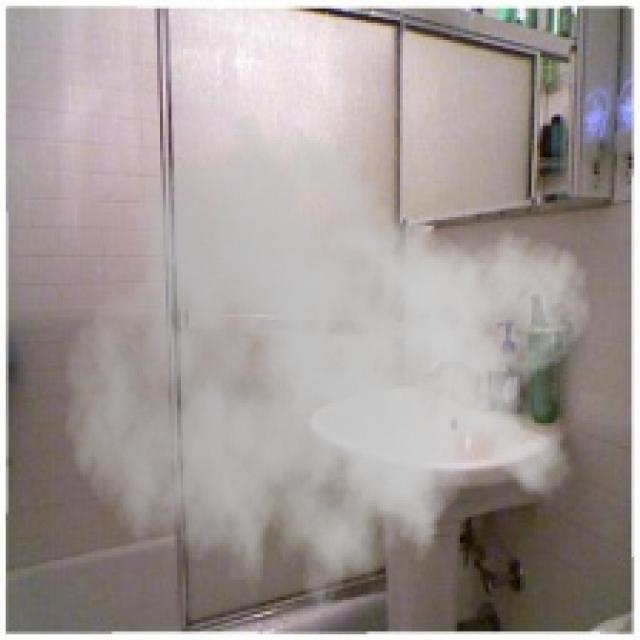Smoke: (62, 100, 598, 637)
